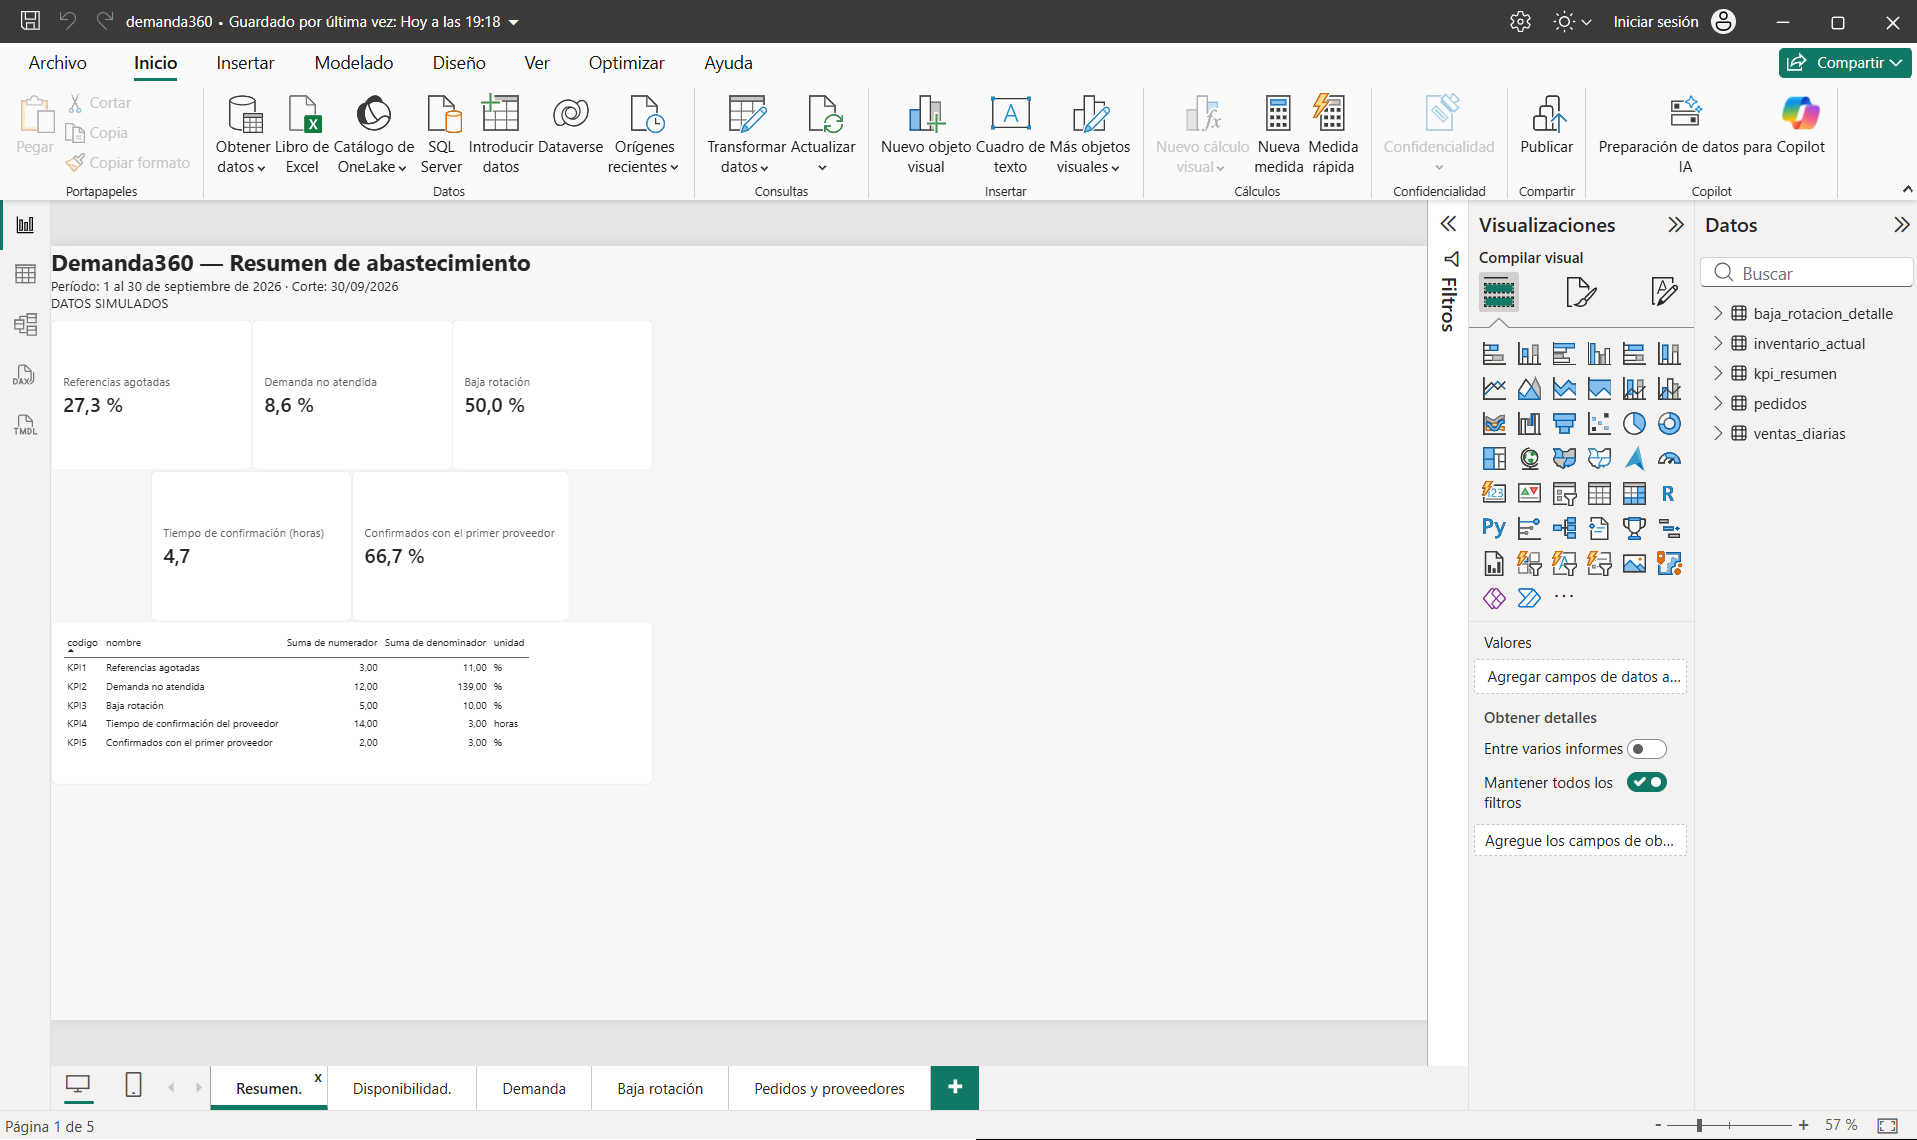

Layout of this report page (visuals, bound fields, positions):
{"tool":"powerbi","page":{"name":"Resumen.","canvas":[1920,1080],"ordinal":0},"visuals":[{"type":"cardVisual","fields":{"Data":["kpi_resumen.Referencias agotadas"]},"box":[0,103.6,280,210],"z":0},{"type":"cardVisual","fields":{"Data":["kpi_resumen.Demanda no atendida"]},"box":[280,103.6,280,210],"z":1000},{"type":"cardVisual","fields":{"Data":["kpi_resumen.Baja rotación"]},"box":[560,103.6,280,210],"z":2000},{"type":"cardVisual","fields":{"Data":["kpi_resumen.Tiempo de confirmación (horas)"]},"box":[140,313.6,280,210],"z":3000},{"type":"cardVisual","fields":{"Data":["kpi_resumen.Confirmados con el primer proveedor"]},"box":[420,313.1,303.3,210],"z":4000},{"type":"textbox","box":[140,455,280,210],"z":5000},{"type":"textbox","box":[140,700,280,210],"z":6000},{"type":"textbox","box":[140,920,280,160],"z":7000},{"type":"textbox","box":[0,0,1057.8,92.2],"z":8000},{"type":"tableEx","fields":{"Values":["kpi_resumen.codigo","kpi_resumen.nombre","Sum(kpi_resumen.numerador)","Sum(kpi_resumen.denominador)","kpi_resumen.unidad"]},"box":[0,523.1,840,227.8],"z":9000}]}

Visuals, with their boxes on the page's 1920x1080 design canvas (x1, y1, x2, y2). These are canvas units, not pixel positions in the 1917x1140 screenshot, which may show the page scaled, cropped or inside an application window:
cardVisual - kpi_resumen.Referencias agotadas: [left=0, top=104, right=280, bottom=314]
cardVisual - kpi_resumen.Demanda no atendida: [left=280, top=104, right=560, bottom=314]
cardVisual - kpi_resumen.Baja rotación: [left=560, top=104, right=840, bottom=314]
cardVisual - kpi_resumen.Tiempo de confirmación (horas): [left=140, top=314, right=420, bottom=524]
cardVisual - kpi_resumen.Confirmados con el primer proveedor: [left=420, top=313, right=723, bottom=523]
textbox: [left=140, top=455, right=420, bottom=665]
textbox: [left=140, top=700, right=420, bottom=910]
textbox: [left=140, top=920, right=420, bottom=1080]
textbox: [left=0, top=0, right=1058, bottom=92]
tableEx - kpi_resumen.codigo x kpi_resumen.nombre: [left=0, top=523, right=840, bottom=751]
